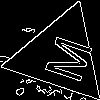M: (35, 30, 94, 85)
